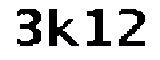1: (83, 6, 117, 51)
2: (117, 6, 152, 49)
3: (14, 6, 43, 49)
k: (47, 5, 82, 52)
